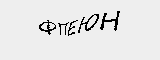Е: (65, 17, 78, 38)
Н: (100, 9, 120, 32)
П: (57, 19, 69, 37)
Ф: (39, 18, 56, 37)
Ю: (77, 11, 100, 34)
